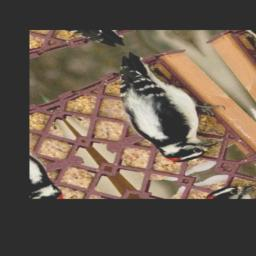Woodpecker: (82, 40, 253, 167)
